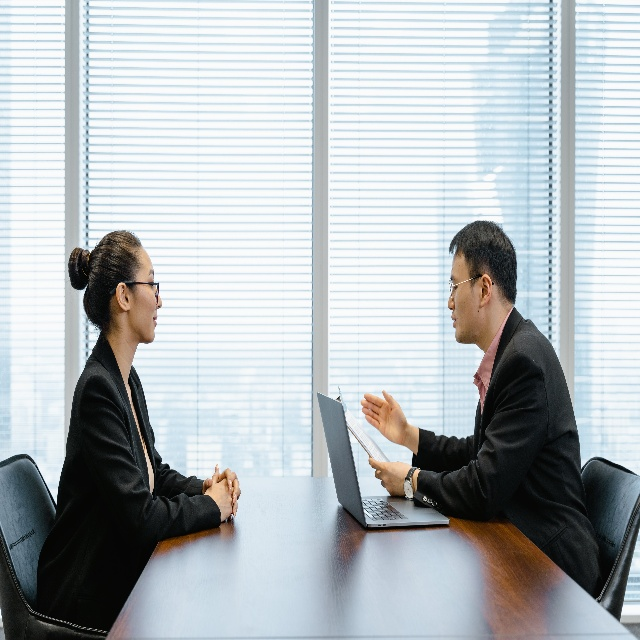Gafas: (110, 279, 160, 305), (448, 274, 494, 301)
Sin_guantes: (360, 388, 408, 446), (366, 451, 411, 499), (206, 463, 242, 522), (201, 467, 241, 519)
